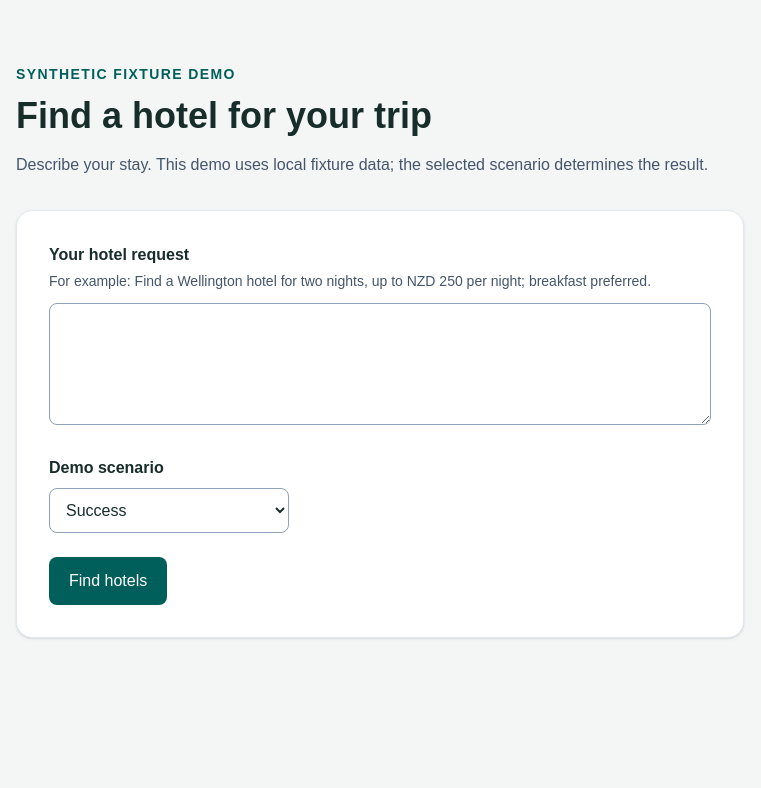
Test: recommendation request journey › clears the previous selection when a new request starts, even when the same hotels return
The width and height of the screenshot is (761, 788).
Later steps or results of the test are not shown.
Type "Find a Wellington hotel for two nights." into the text box labelled "Your hotel request" at (380, 364), box [49, 303, 711, 425]
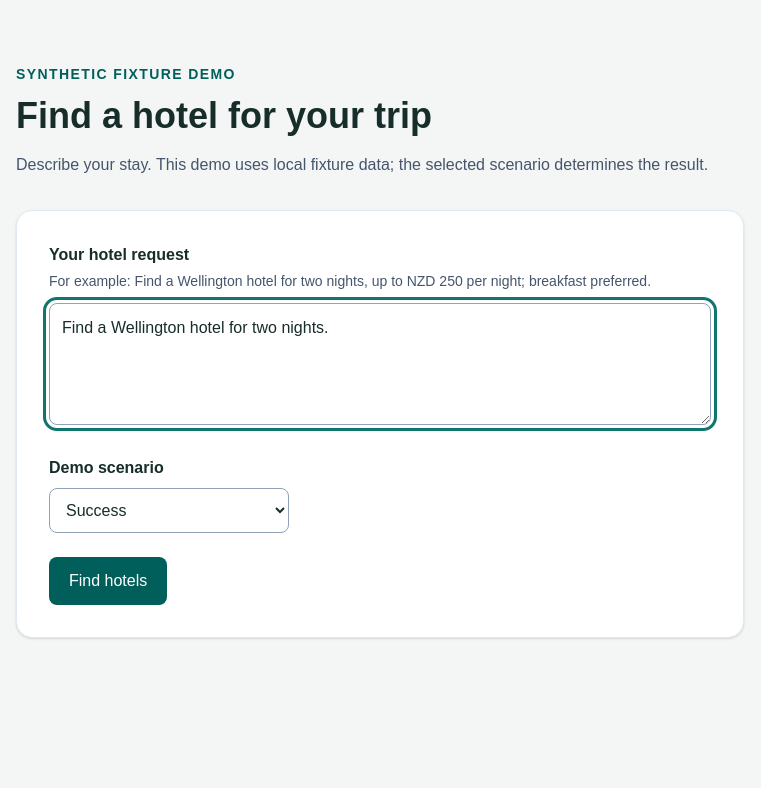
Click the button "Find hotels" at (108, 581), box [49, 557, 167, 605]
(page scrolled)
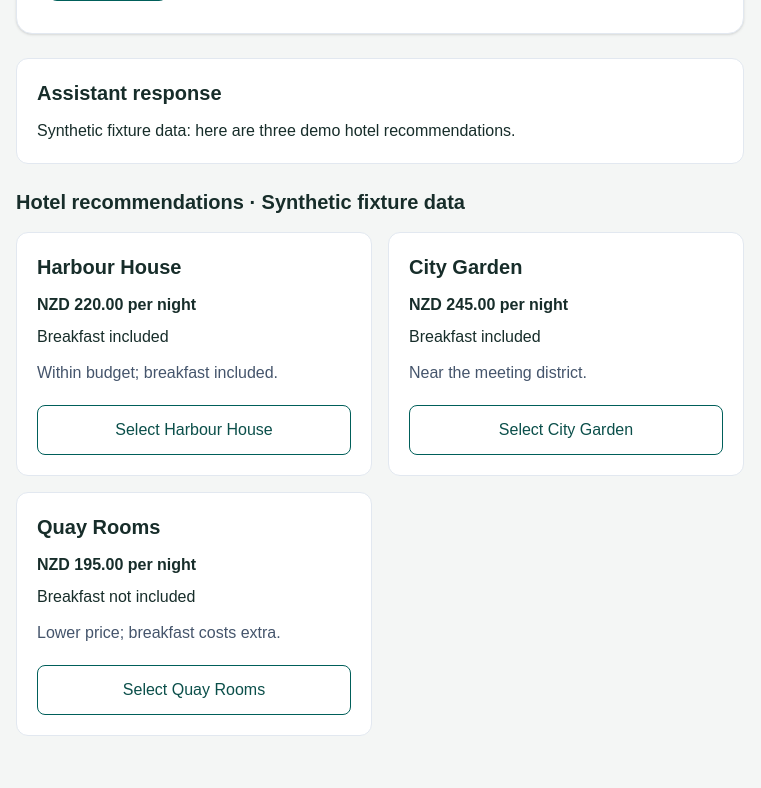
Click the button "Select City Garden" at (566, 430), box [409, 405, 723, 455]
(page scrolled)
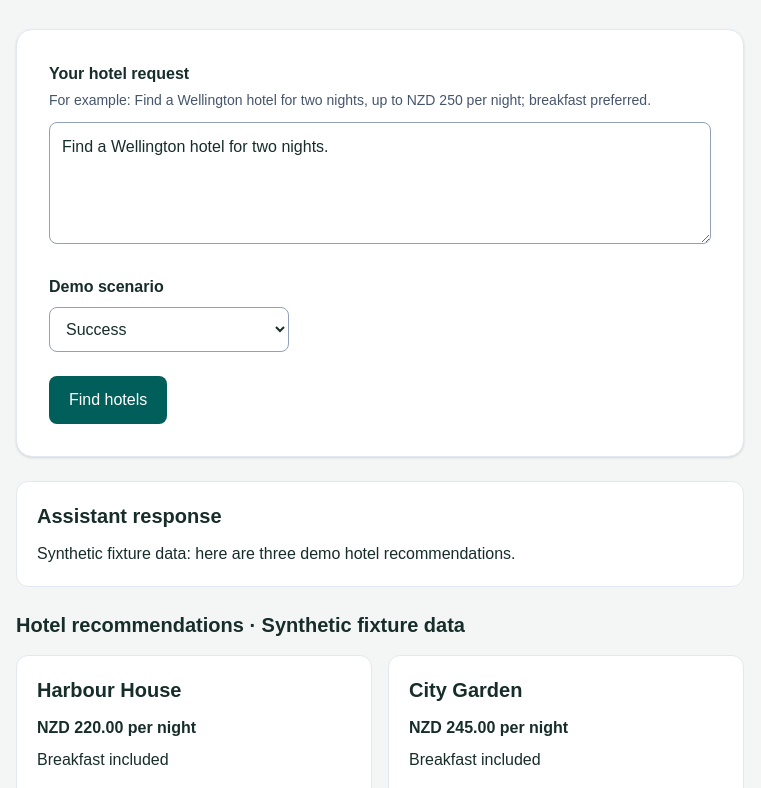
Click the button "Find hotels" at (108, 400), box [49, 376, 167, 424]
(page scrolled)
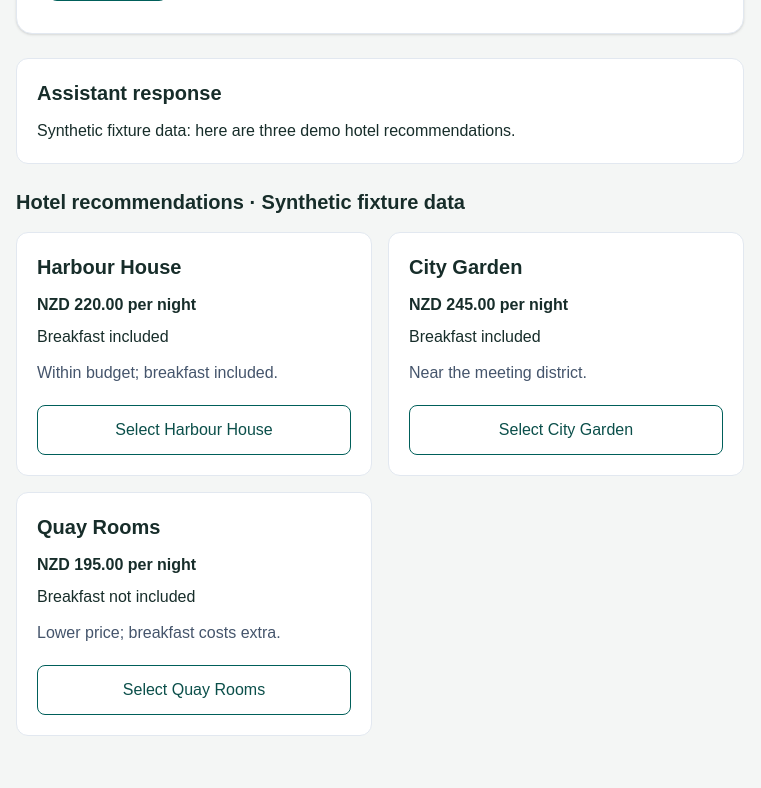
expect the button "Select City Garden" is not pressed: met, box [409, 405, 723, 455]
